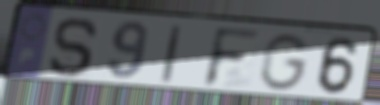6: (316, 35, 363, 97)
9: (105, 19, 150, 84)
F: (200, 25, 264, 90)
G: (258, 32, 313, 93)
I: (159, 23, 185, 86)
S: (46, 16, 101, 80)
